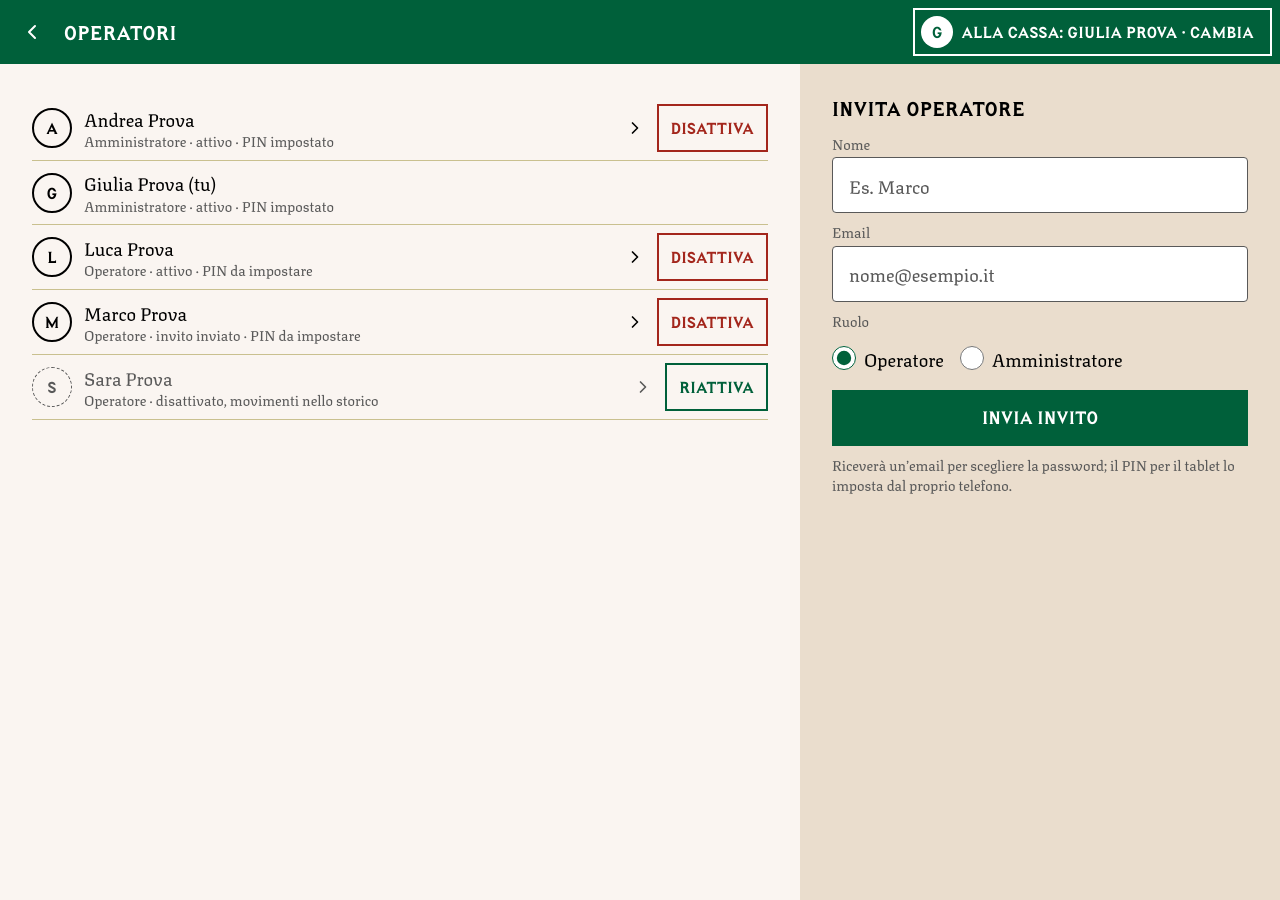
Test: OperatorsPage: tablet layout › invite form: an operator is invited from the tablet without any PIN
The image size is (1280, 900).
Step 1. Type "Nadia Prova" into the field labelled "Nome" → {"x": 1040, "y": 185}, box [832,157,1248,213]
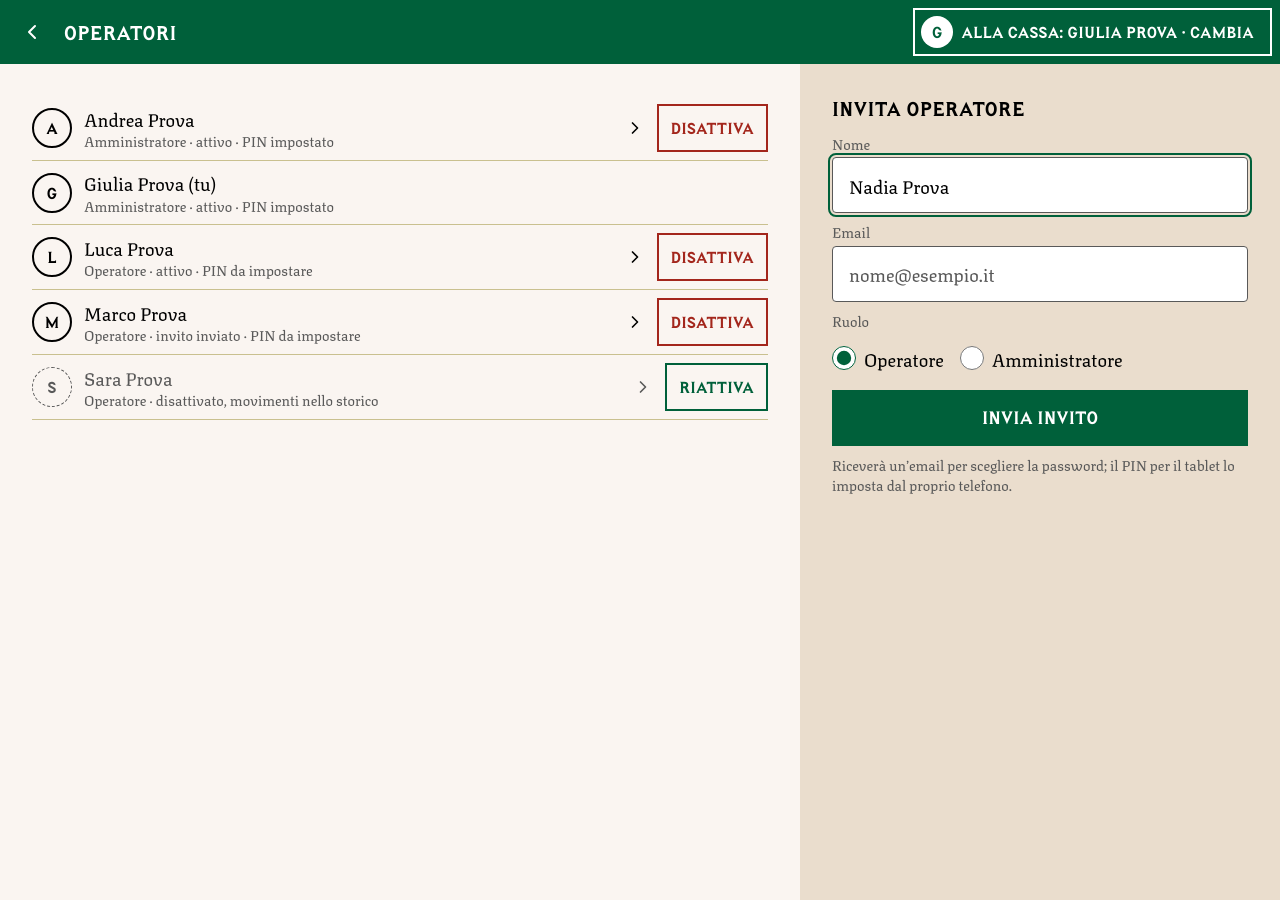
Step 2. Type "nadia@esempio.it" into the field labelled "Email" → {"x": 1040, "y": 274}, box [832,246,1248,302]
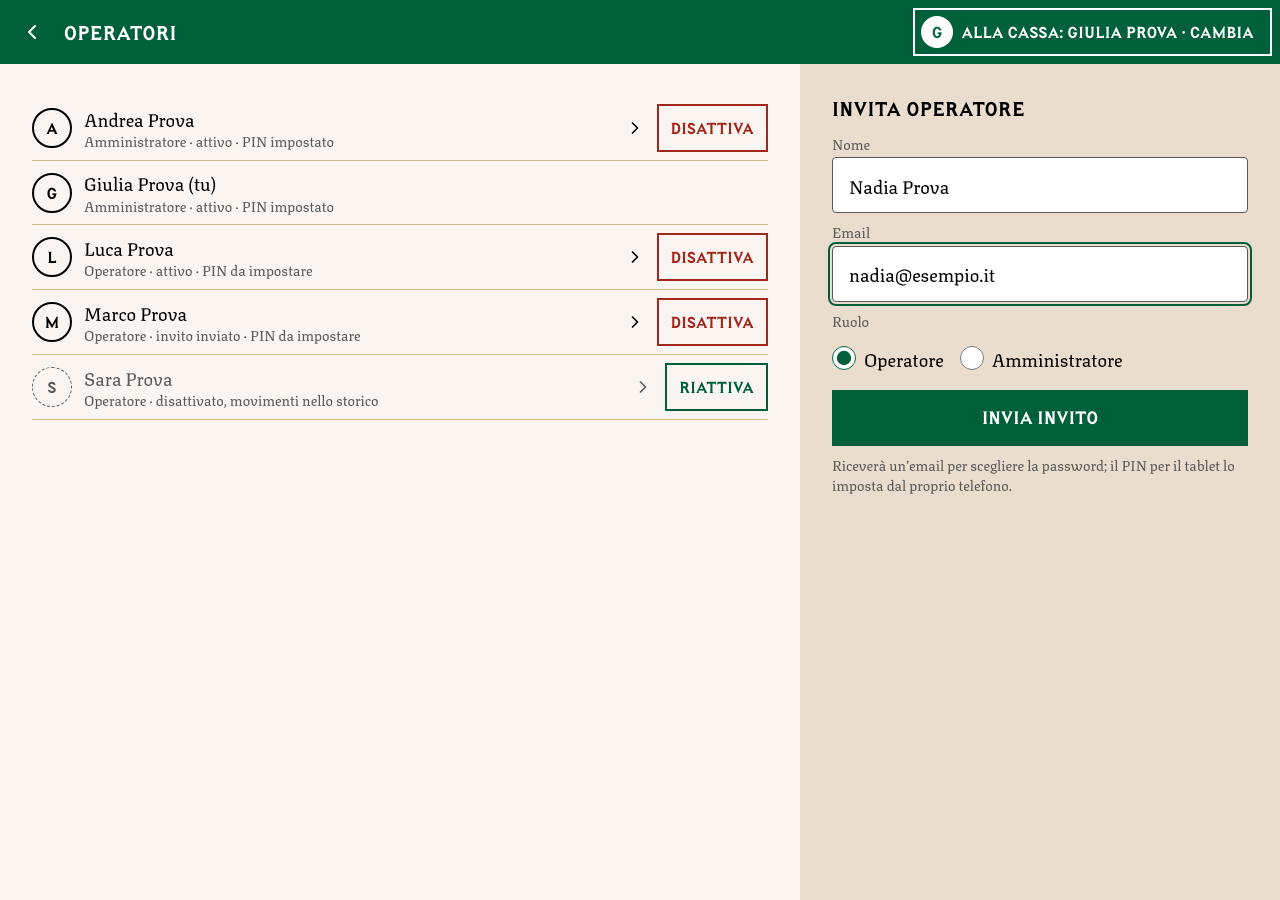
Step 3. Click the button "Invia invito" → {"x": 1040, "y": 418}, box [832,390,1248,446]
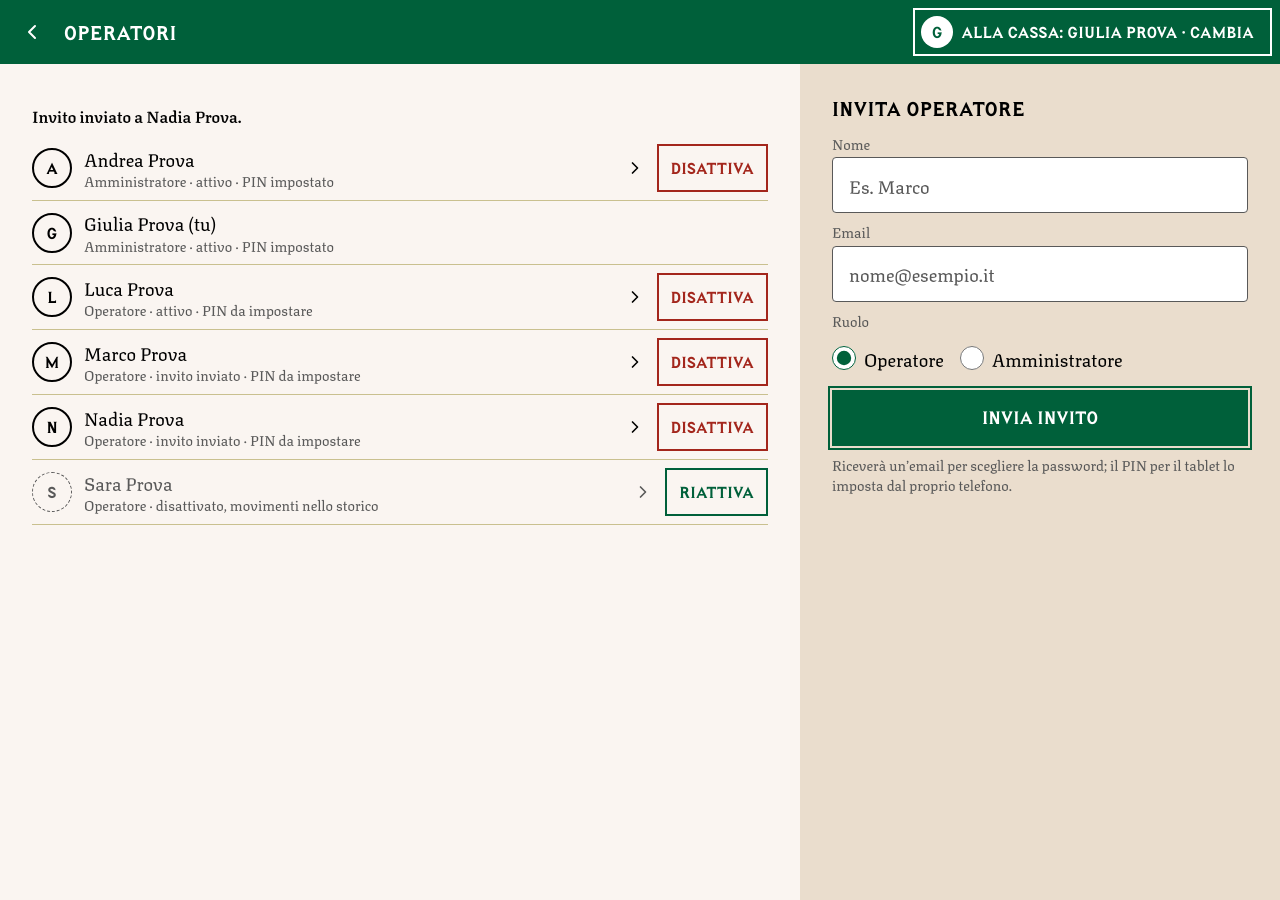
Result: the text "Invito inviato a Nadia Prova." is shown at [32,103,242,128]
